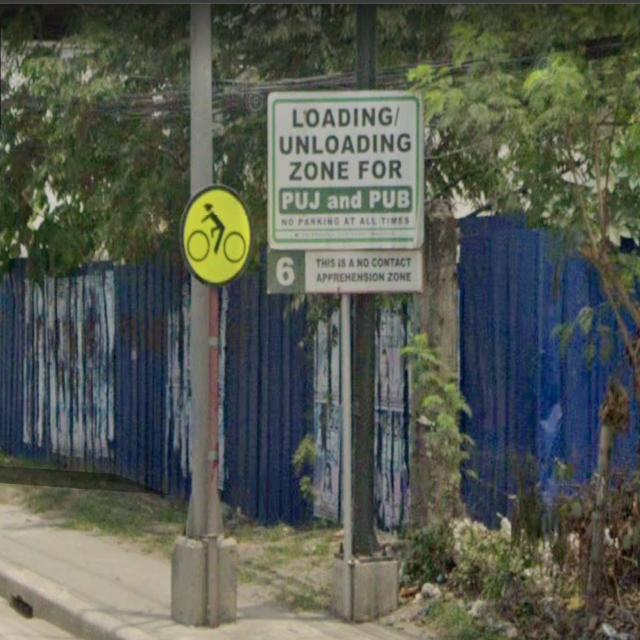bike lane: (179, 184, 252, 286)
